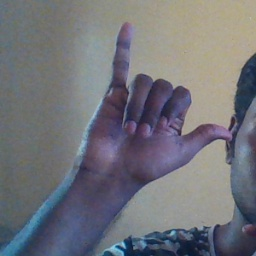J: (84, 22, 232, 182)
